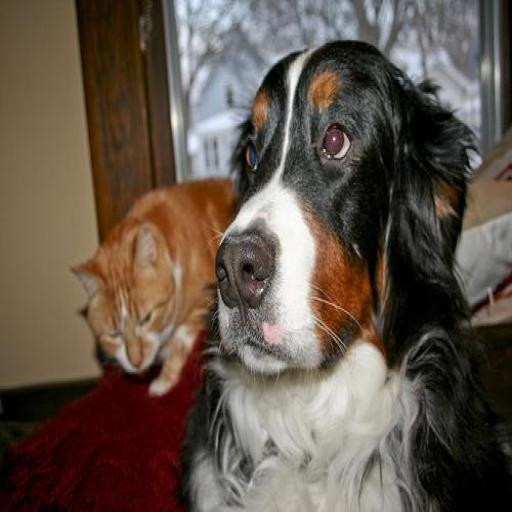dog_face: (218, 43, 432, 355)
